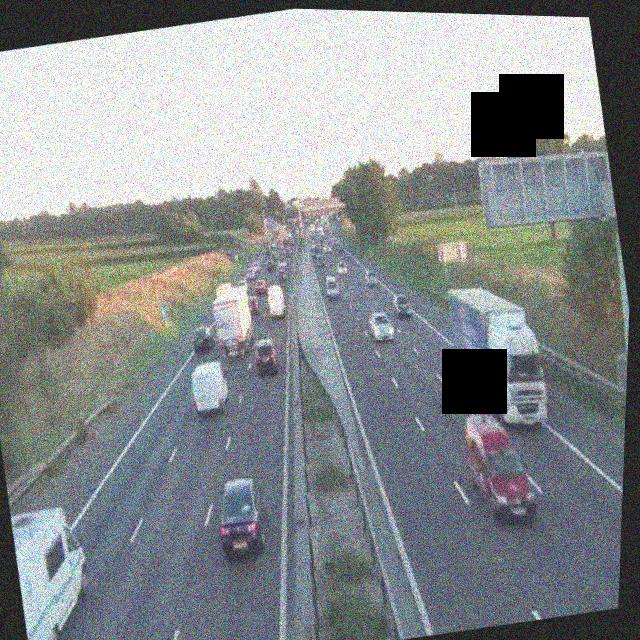car: (454, 403, 542, 530), (210, 474, 274, 559), (186, 358, 232, 417), (251, 336, 281, 374), (366, 308, 395, 342), (190, 323, 217, 353), (390, 290, 413, 319), (246, 293, 263, 318), (322, 276, 340, 299), (363, 268, 380, 288), (249, 274, 265, 292), (274, 267, 288, 284), (335, 259, 348, 276), (313, 252, 324, 265), (309, 243, 320, 256), (333, 241, 343, 254)
truck: (440, 274, 558, 439), (5, 502, 105, 640), (208, 280, 260, 358), (263, 283, 287, 320)
